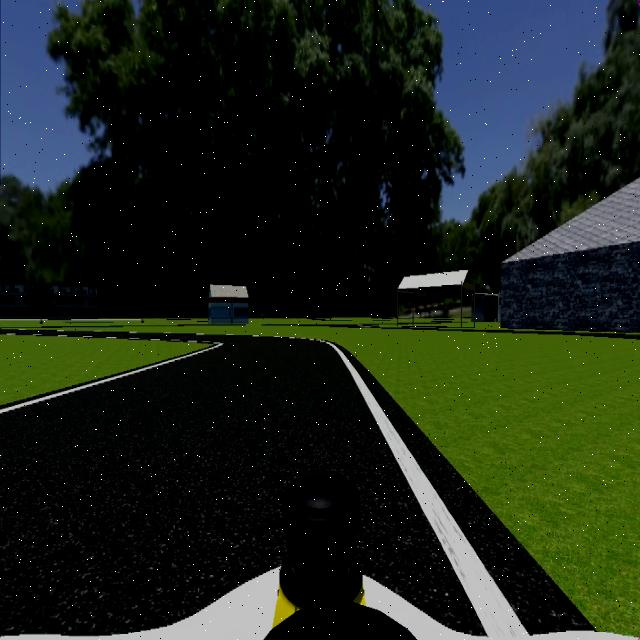road: (1, 340, 481, 634)
solid_line: (332, 347, 527, 637), (0, 345, 220, 415)
